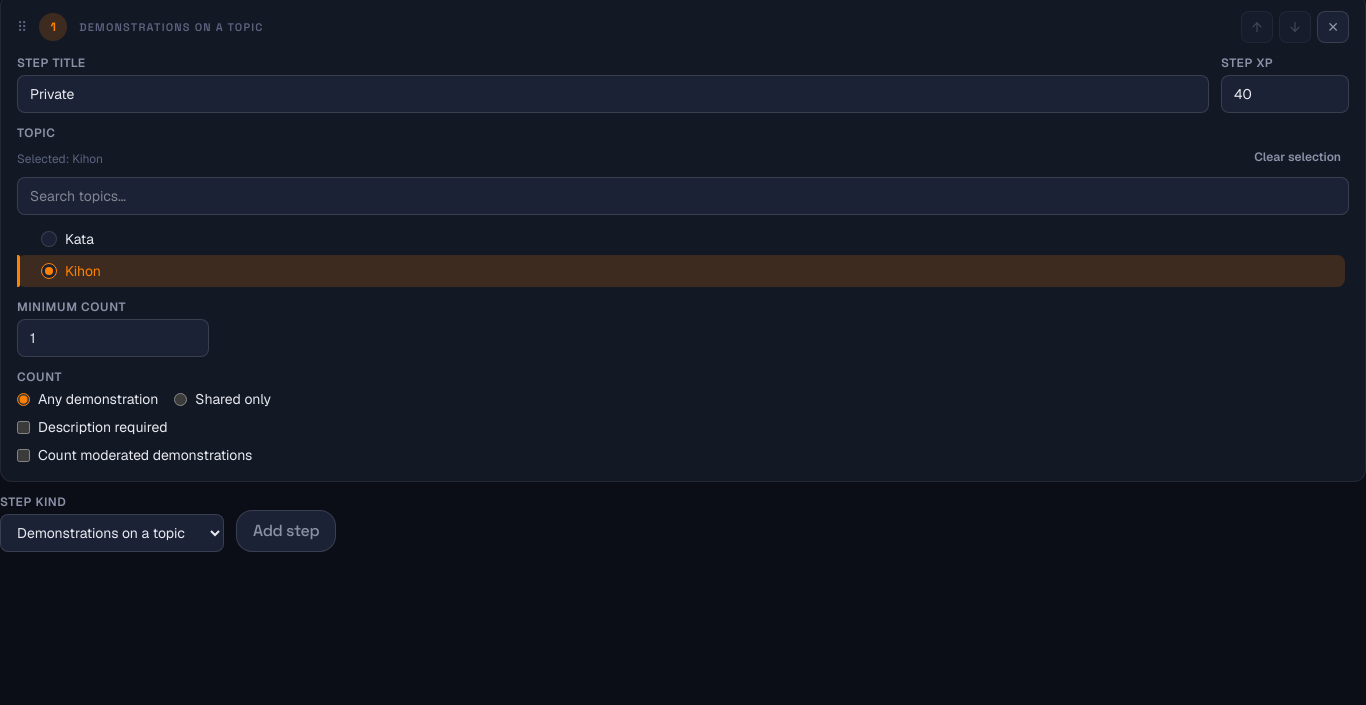
Test: RequirementEditor › pre-fills a higher XP on a shared-only step next to an any step on the same topic
Select "Demonstrations on a topic" in the dropdown labelled "Step kind". click: (112, 533)
box: [0,514,224,552]
Click the button "Add step". click: click(286, 531)
box: [236,510,336,552]
(page scrolled)
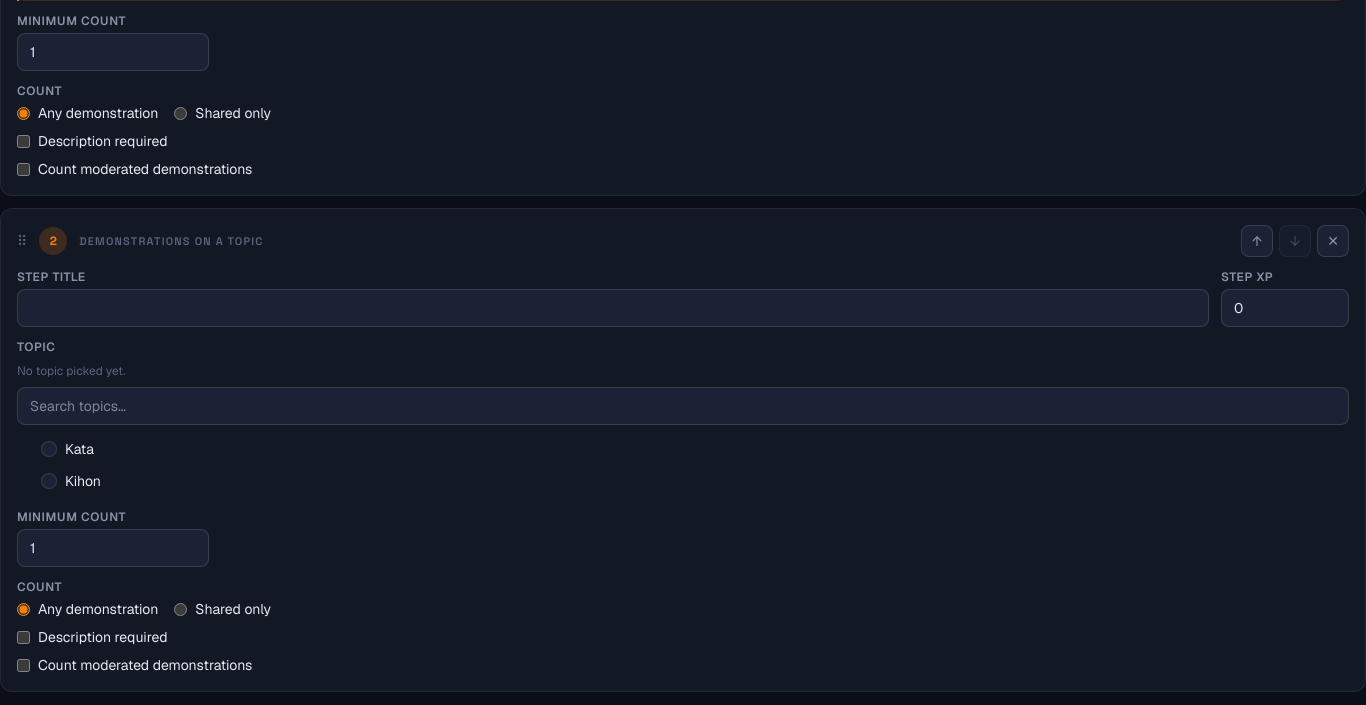
Click the radio button labelled "Kihon" below "No topic picked yet.". click: click(83, 481)
box: [41,465,1337,497]
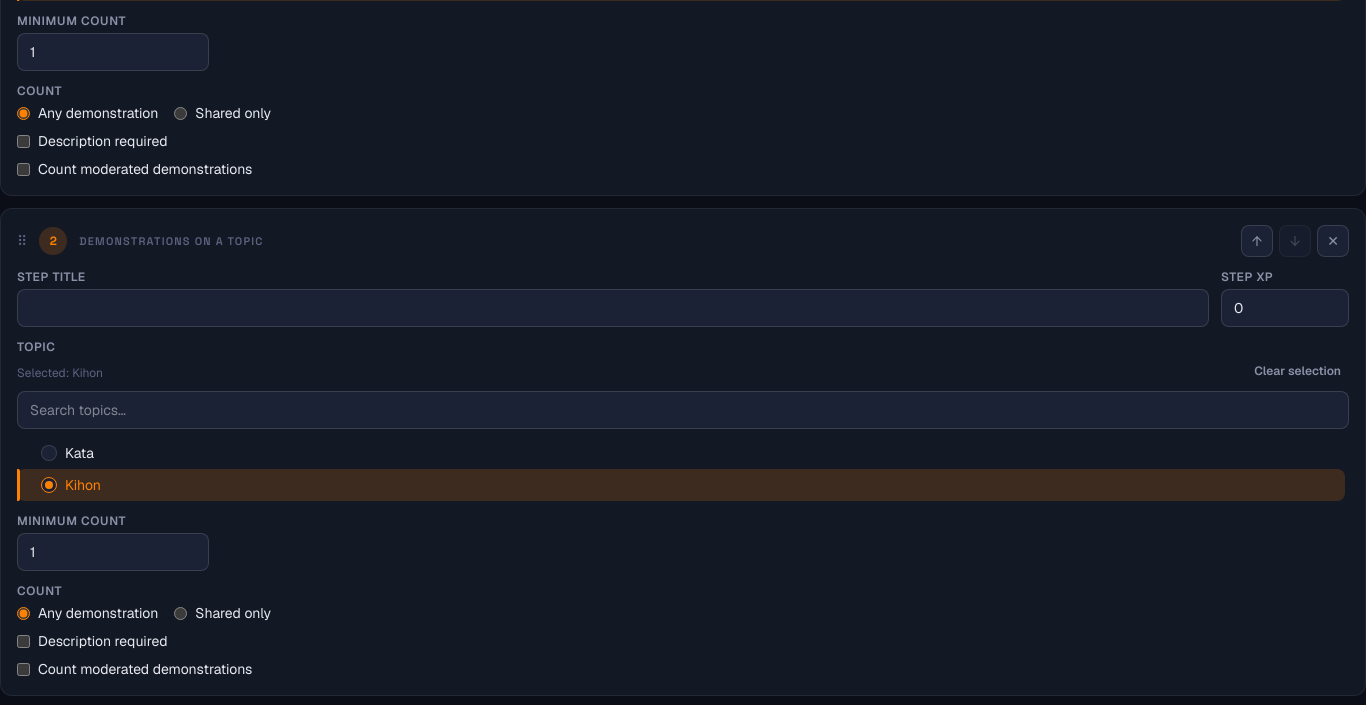
Expected: the number field labelled "Step XP" holds "0", [1221,289,1349,327]
Click the 2nd radio button labelled "Shared only". click: click(181, 613)
box: [174,606,187,620]
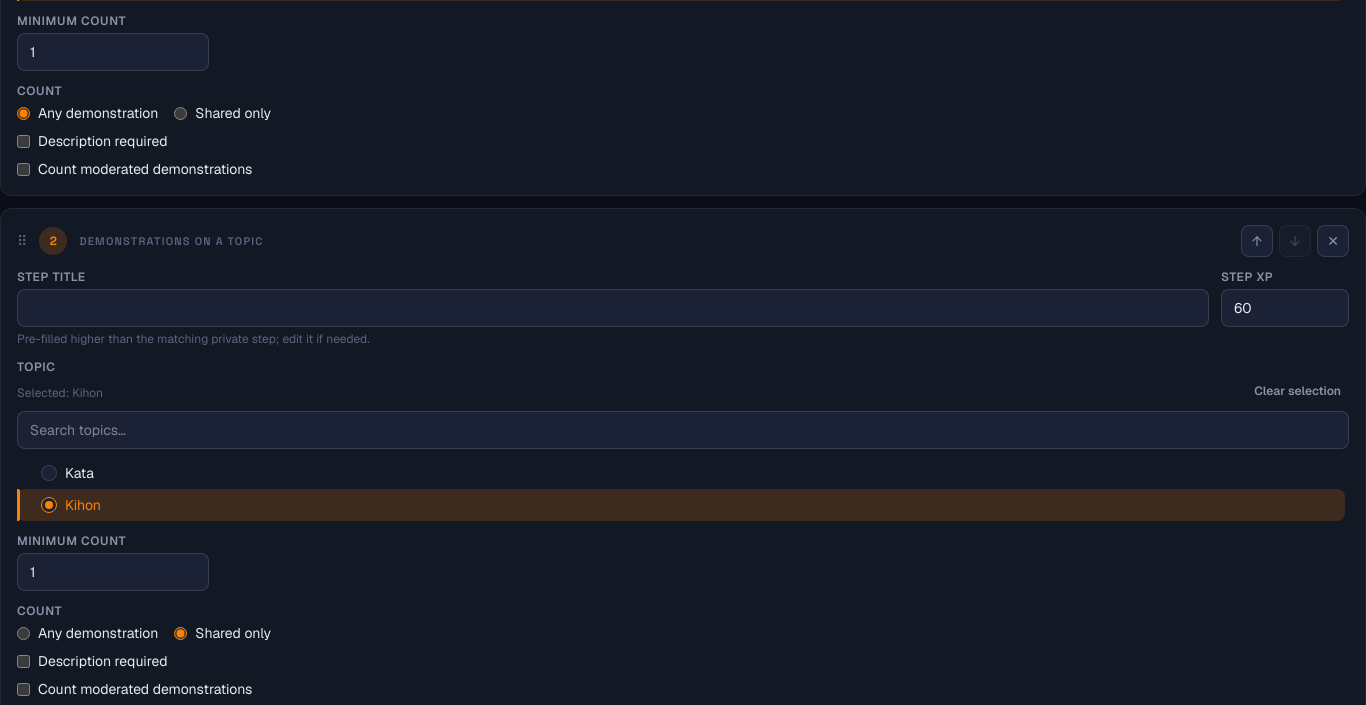
Expected: the number field labelled "Step XP" holds "60"
Expected: the text "Pre-filled higher than the matching private step; edit it if needed." is shown, [17,331,370,347]
Replace the text in the number field labelled "Step XP" with "45". click: (1285, 308)
box: [1221,289,1349,327]
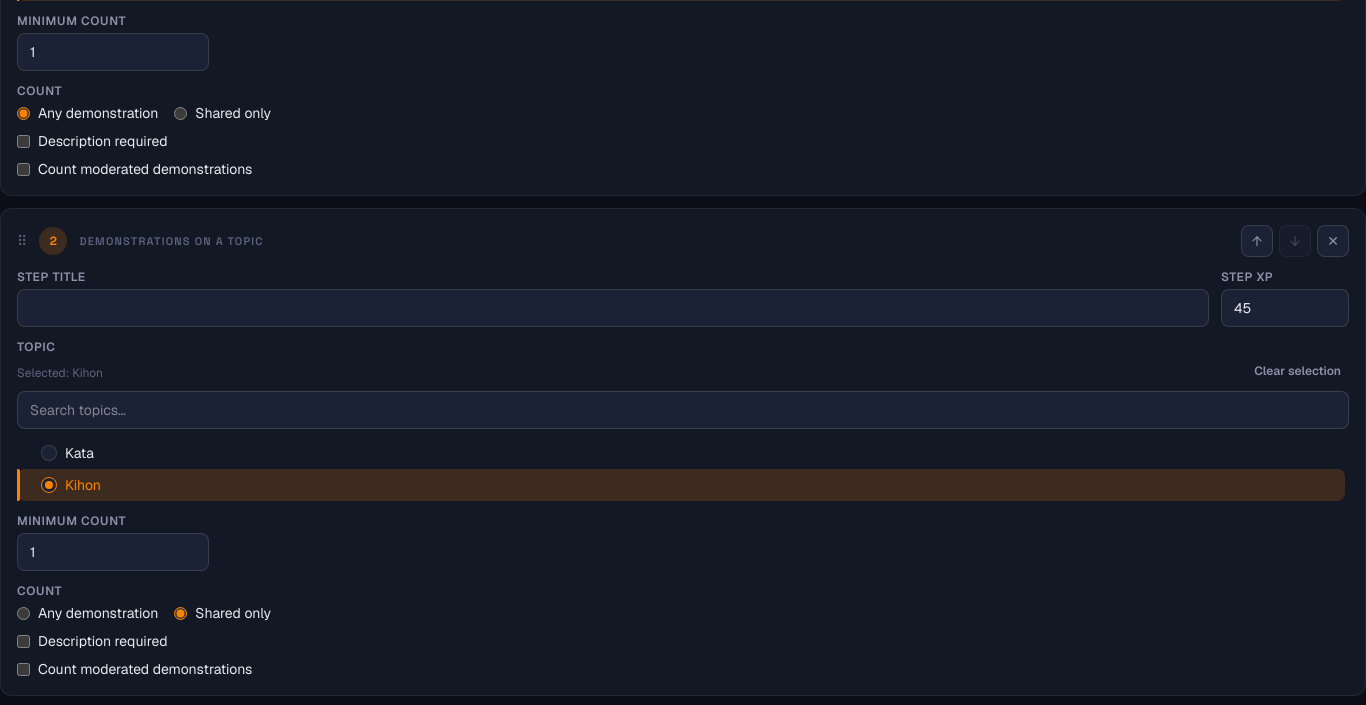
Expected: the text "Pre-filled higher than the matching private step; edit it if needed." is gone
